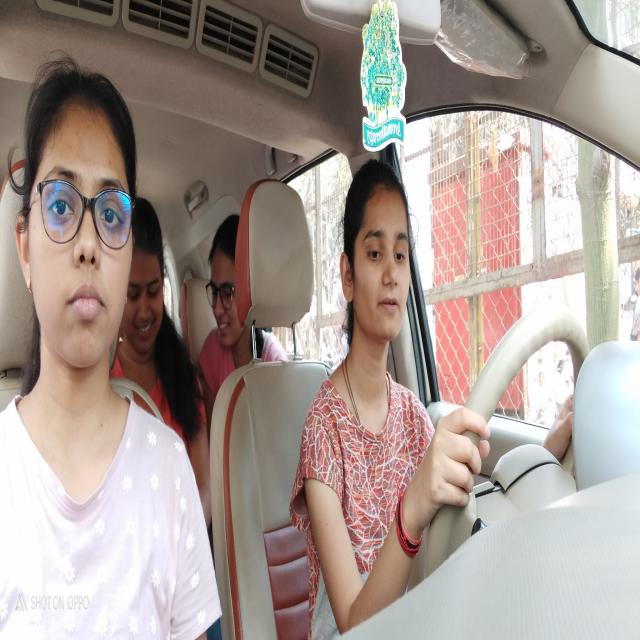person: (13, 60, 142, 400), (338, 159, 422, 356), (130, 187, 170, 353), (204, 213, 252, 350)
